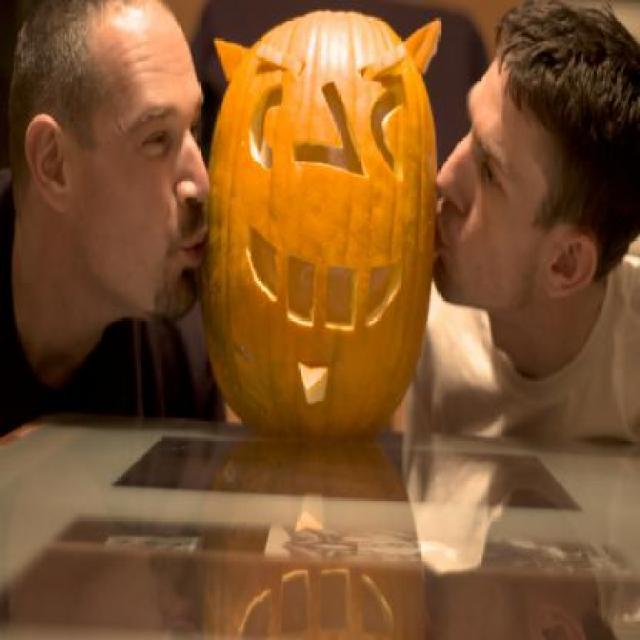Pumpkin: (214, 12, 438, 440)
